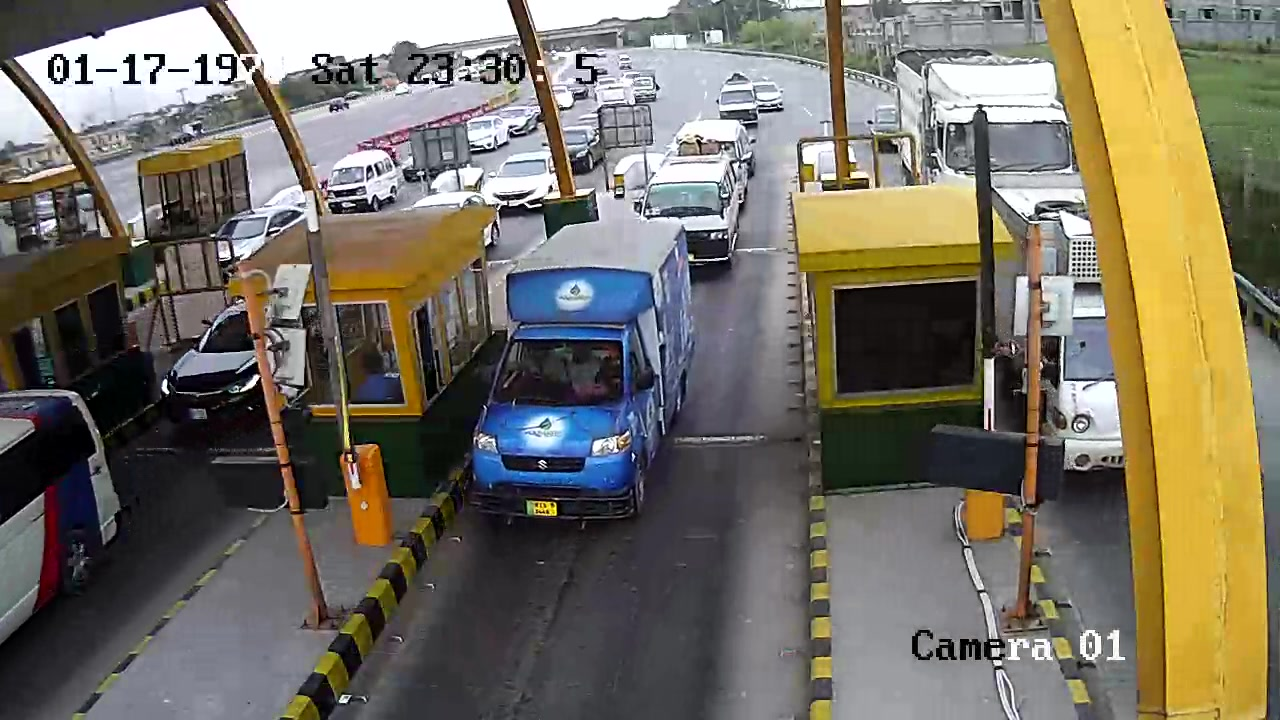F2: (465, 218, 697, 531)
